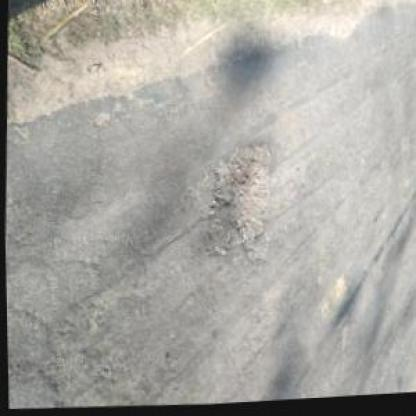pothole: (205, 140, 279, 269)
